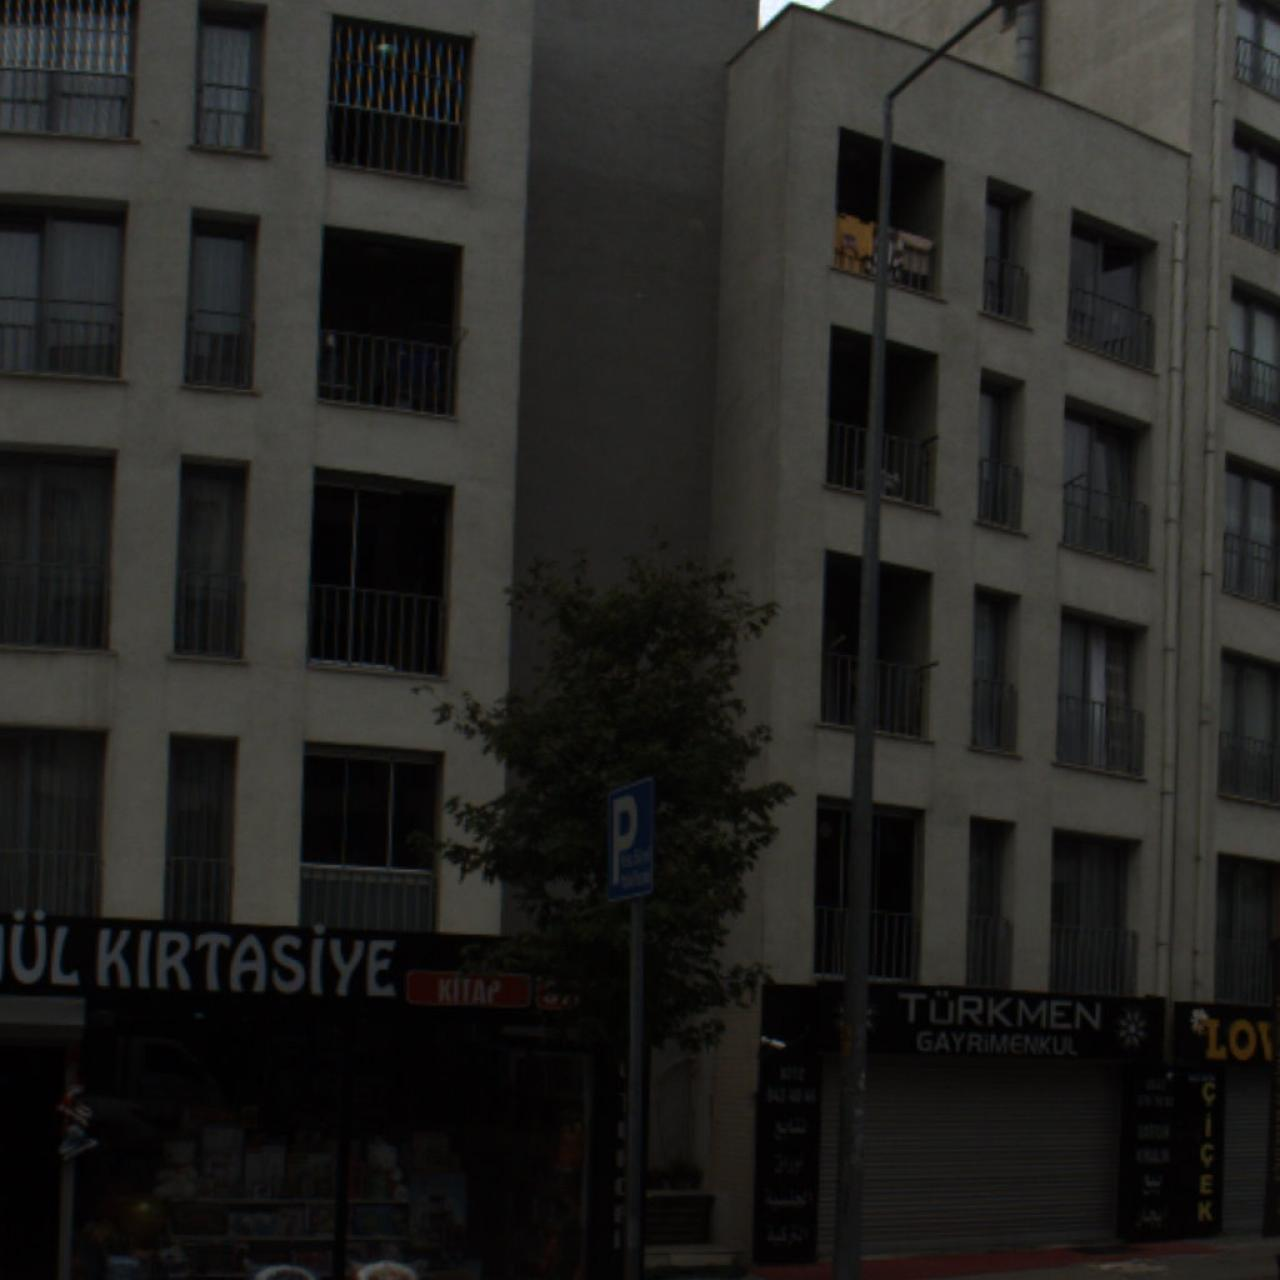SignStore: (6, 907, 601, 1010), (815, 979, 1166, 1063), (1175, 1001, 1276, 1067)
